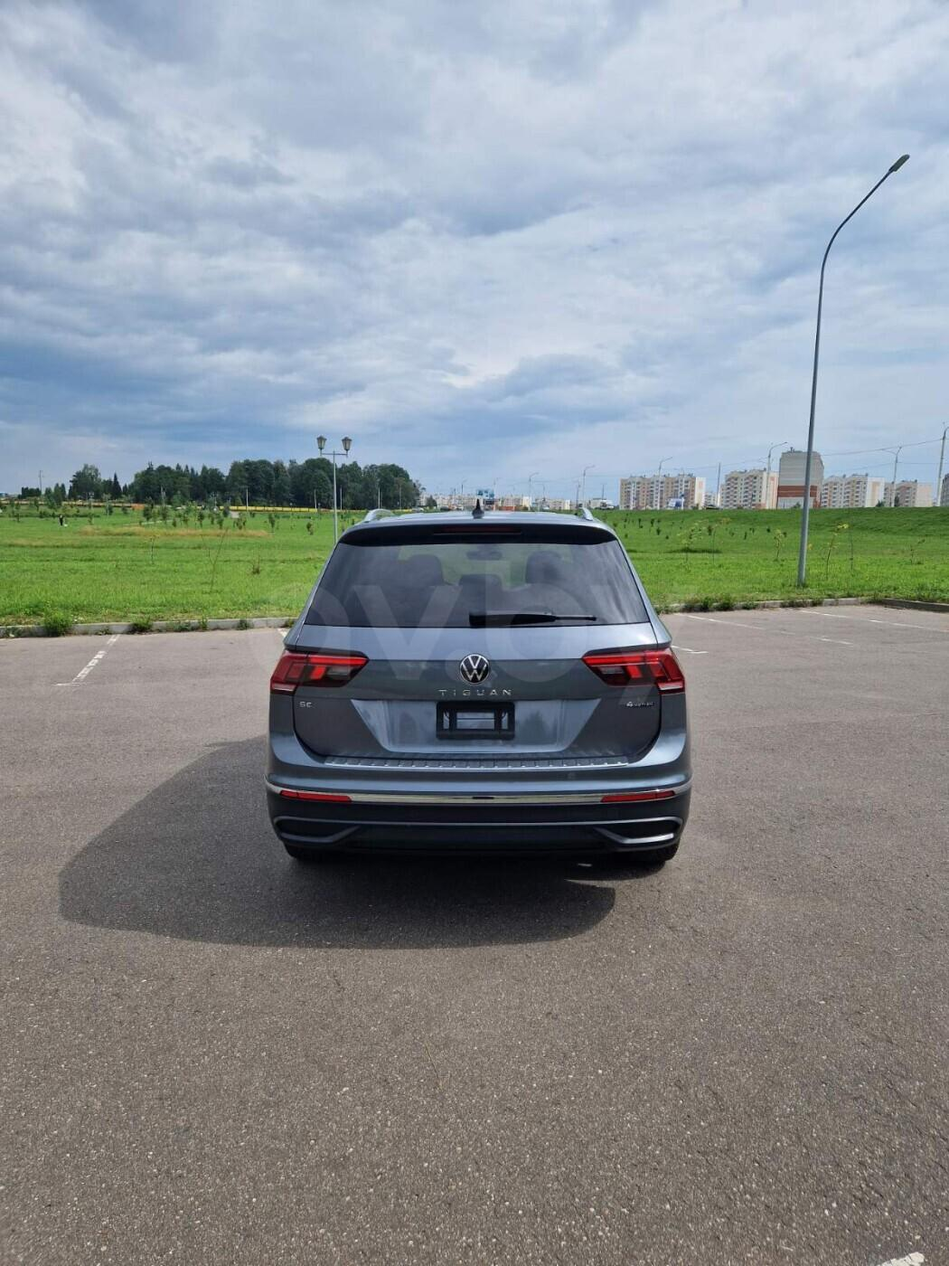Tiguan_2020-2024: (266, 503, 694, 884)
